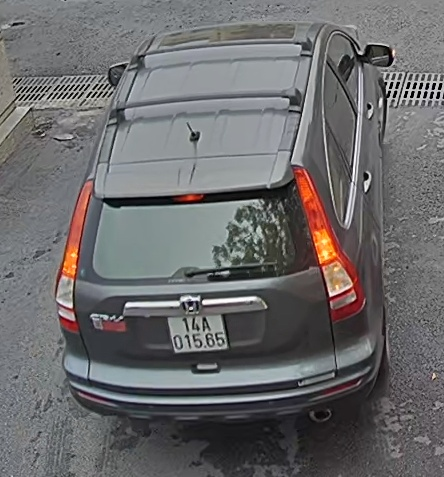vehicle plate: (165, 306, 232, 353)
